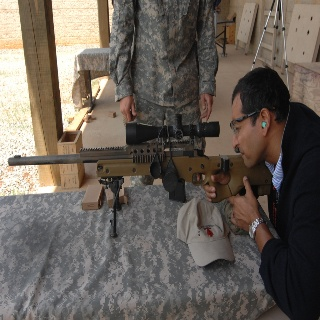rifle: (8, 113, 272, 236)
